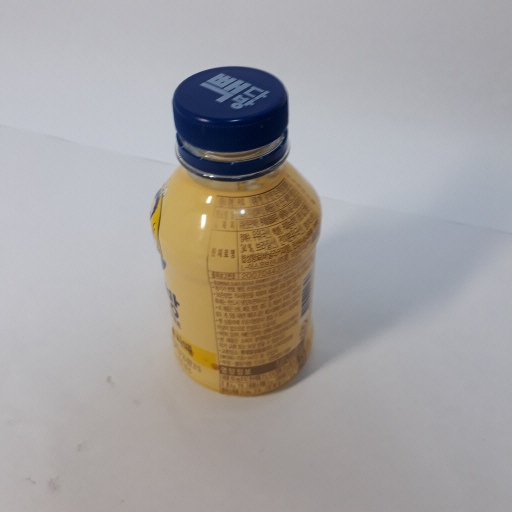Plastic_0: (144, 61, 324, 398)
